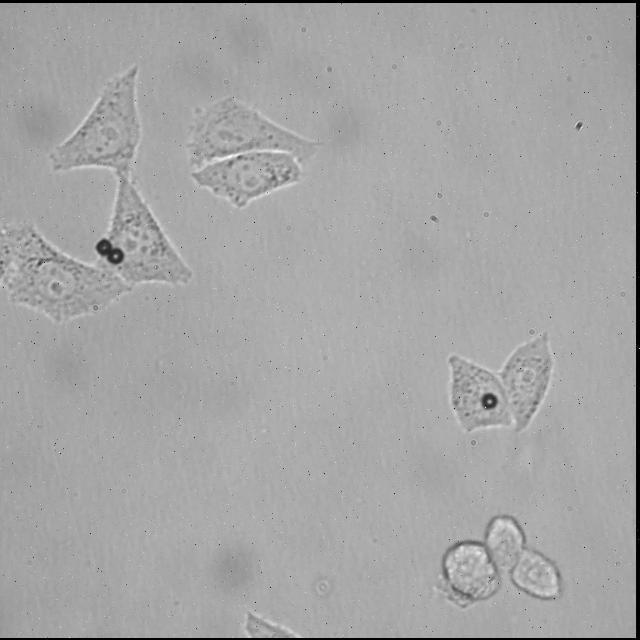microbeads: (107, 240, 131, 268), (92, 234, 115, 258), (480, 392, 500, 411)
